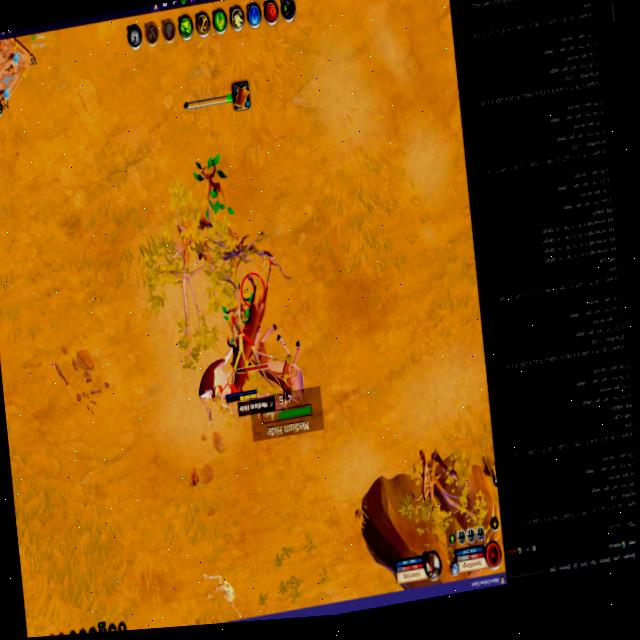mob: (255, 323, 305, 414), (194, 355, 238, 422)
ore: (219, 259, 287, 395)
red: (220, 330, 257, 407)
